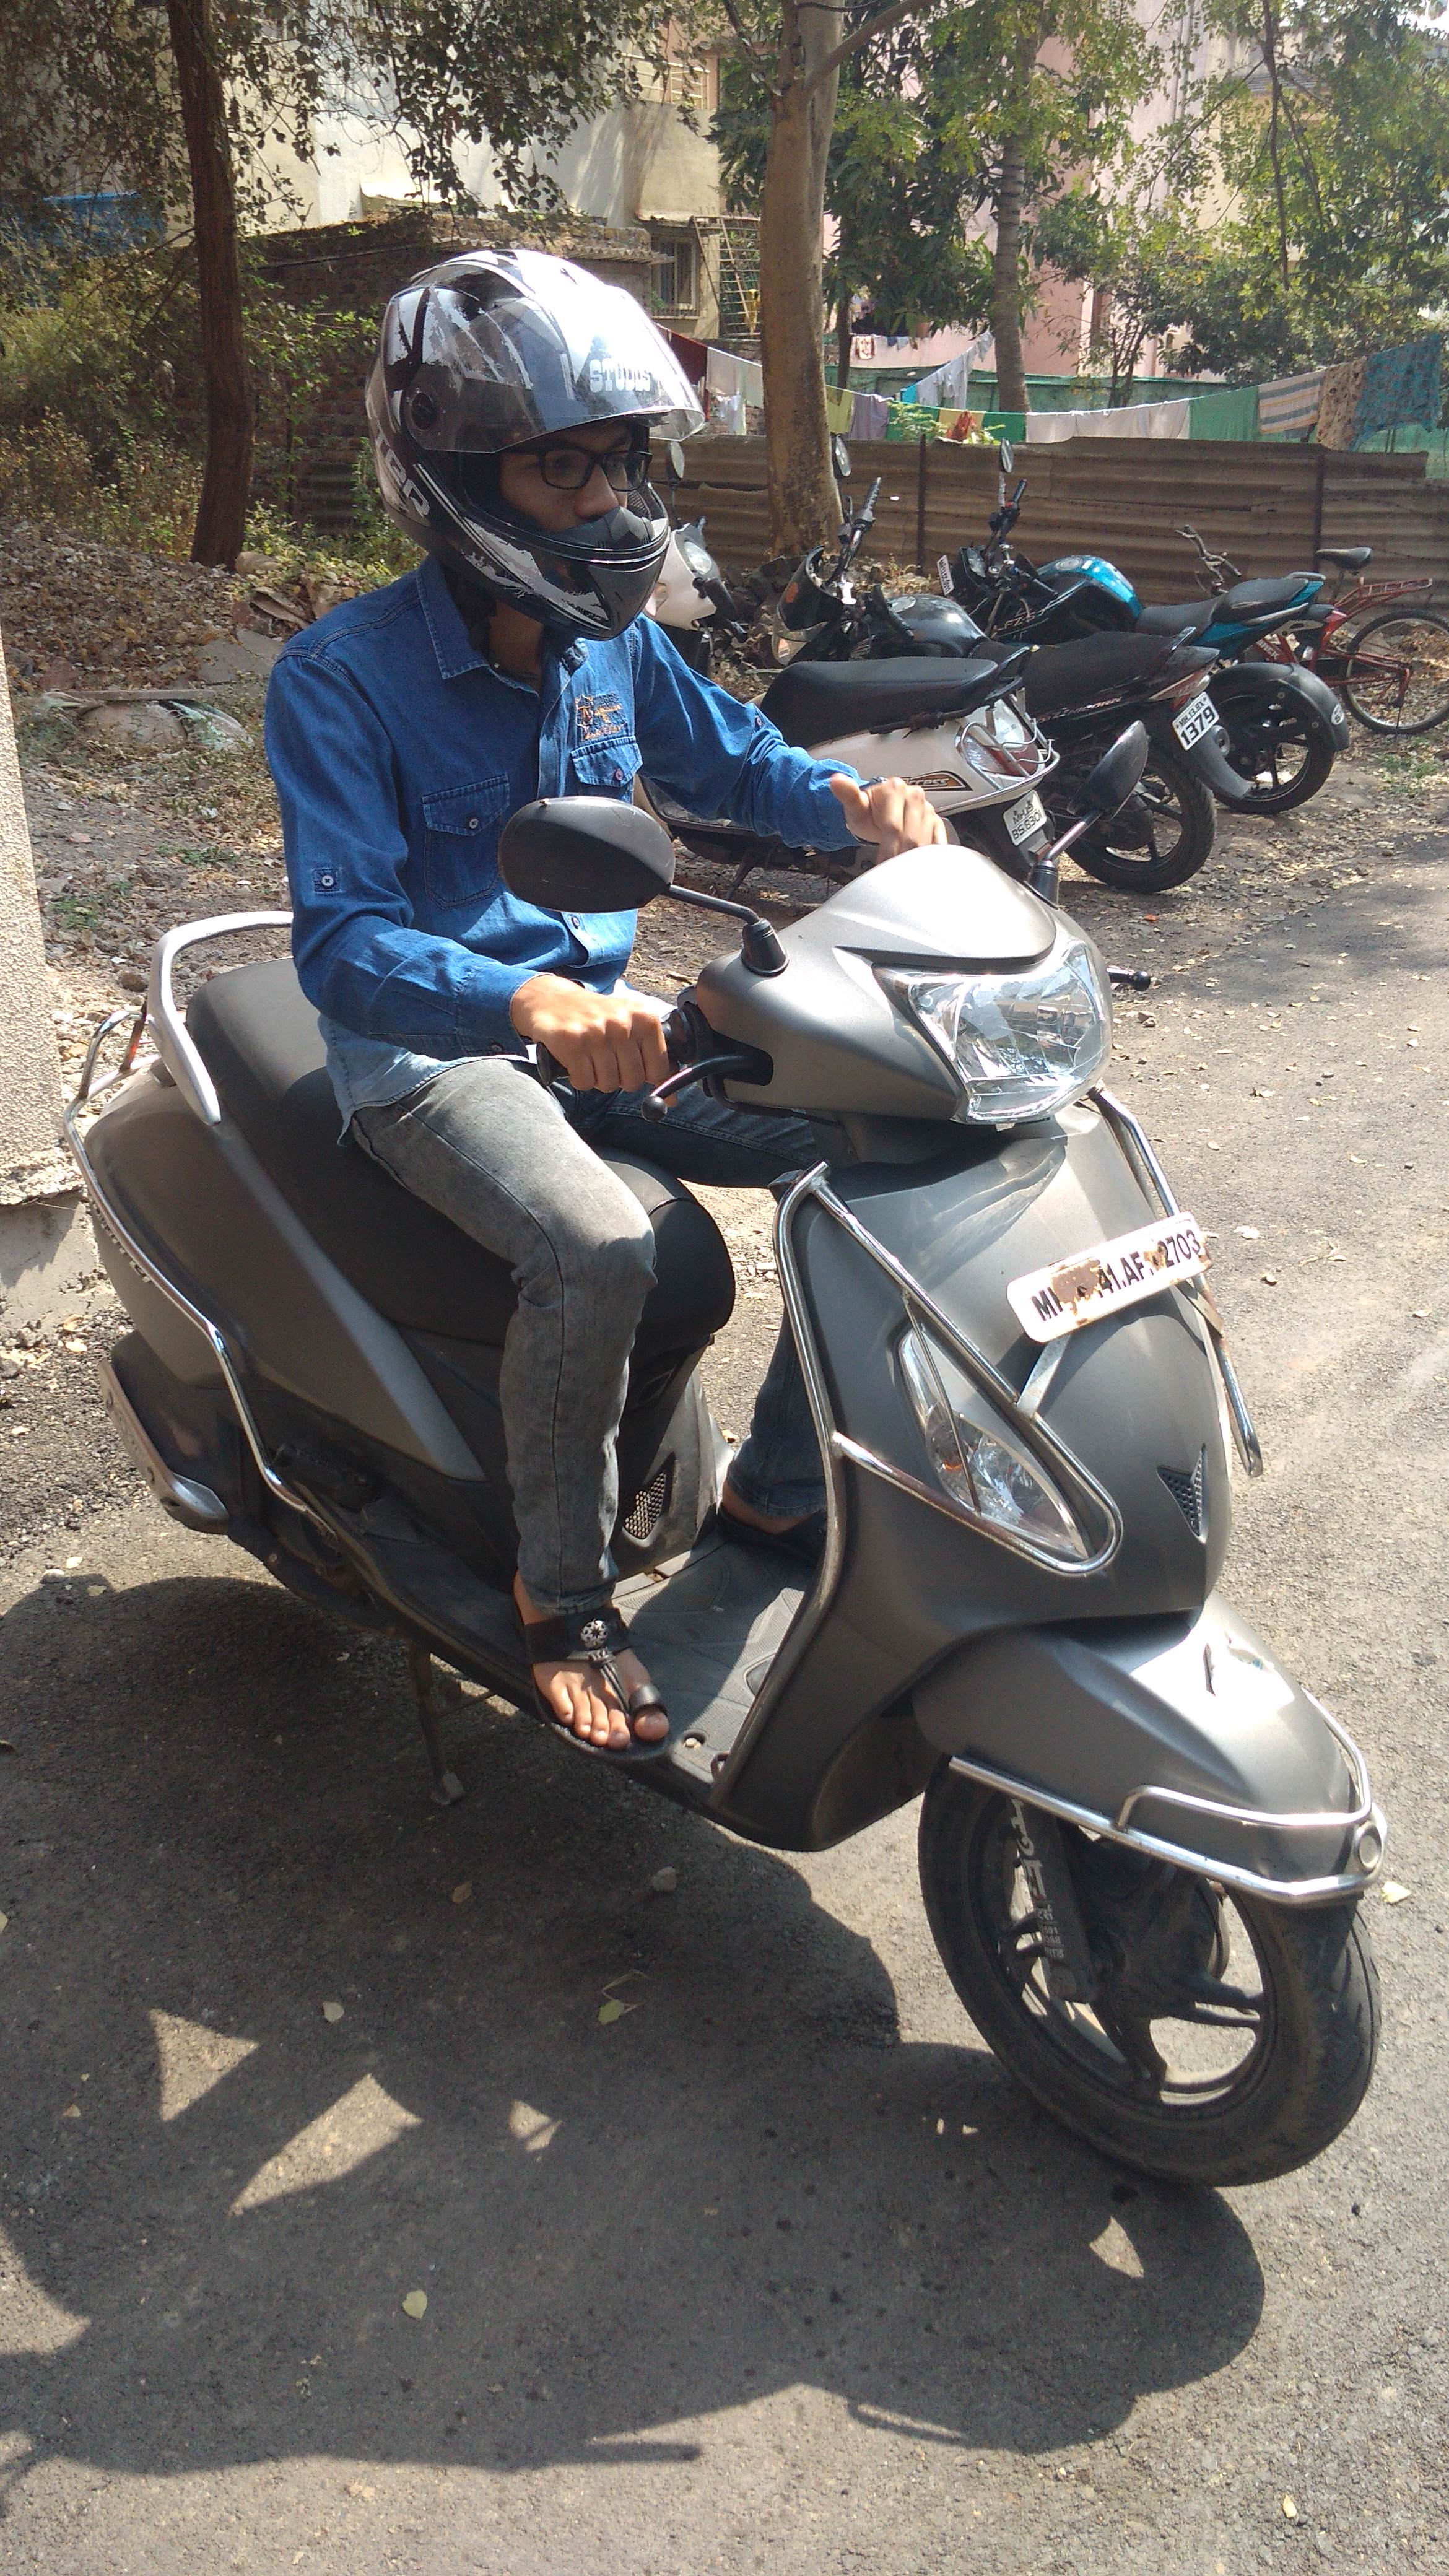helmet: (126, 189, 1122, 1861)
